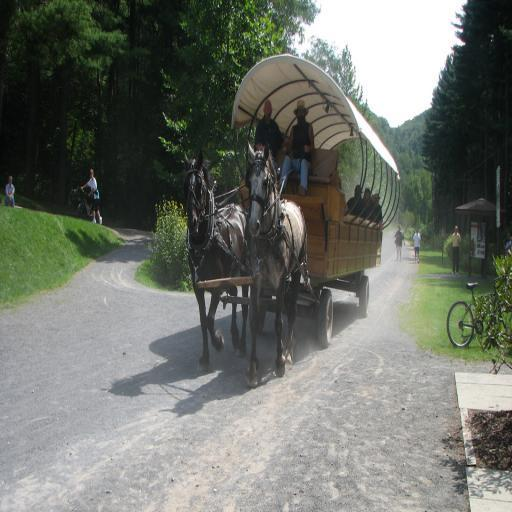horse: (245, 142, 308, 390), (185, 150, 250, 370)
